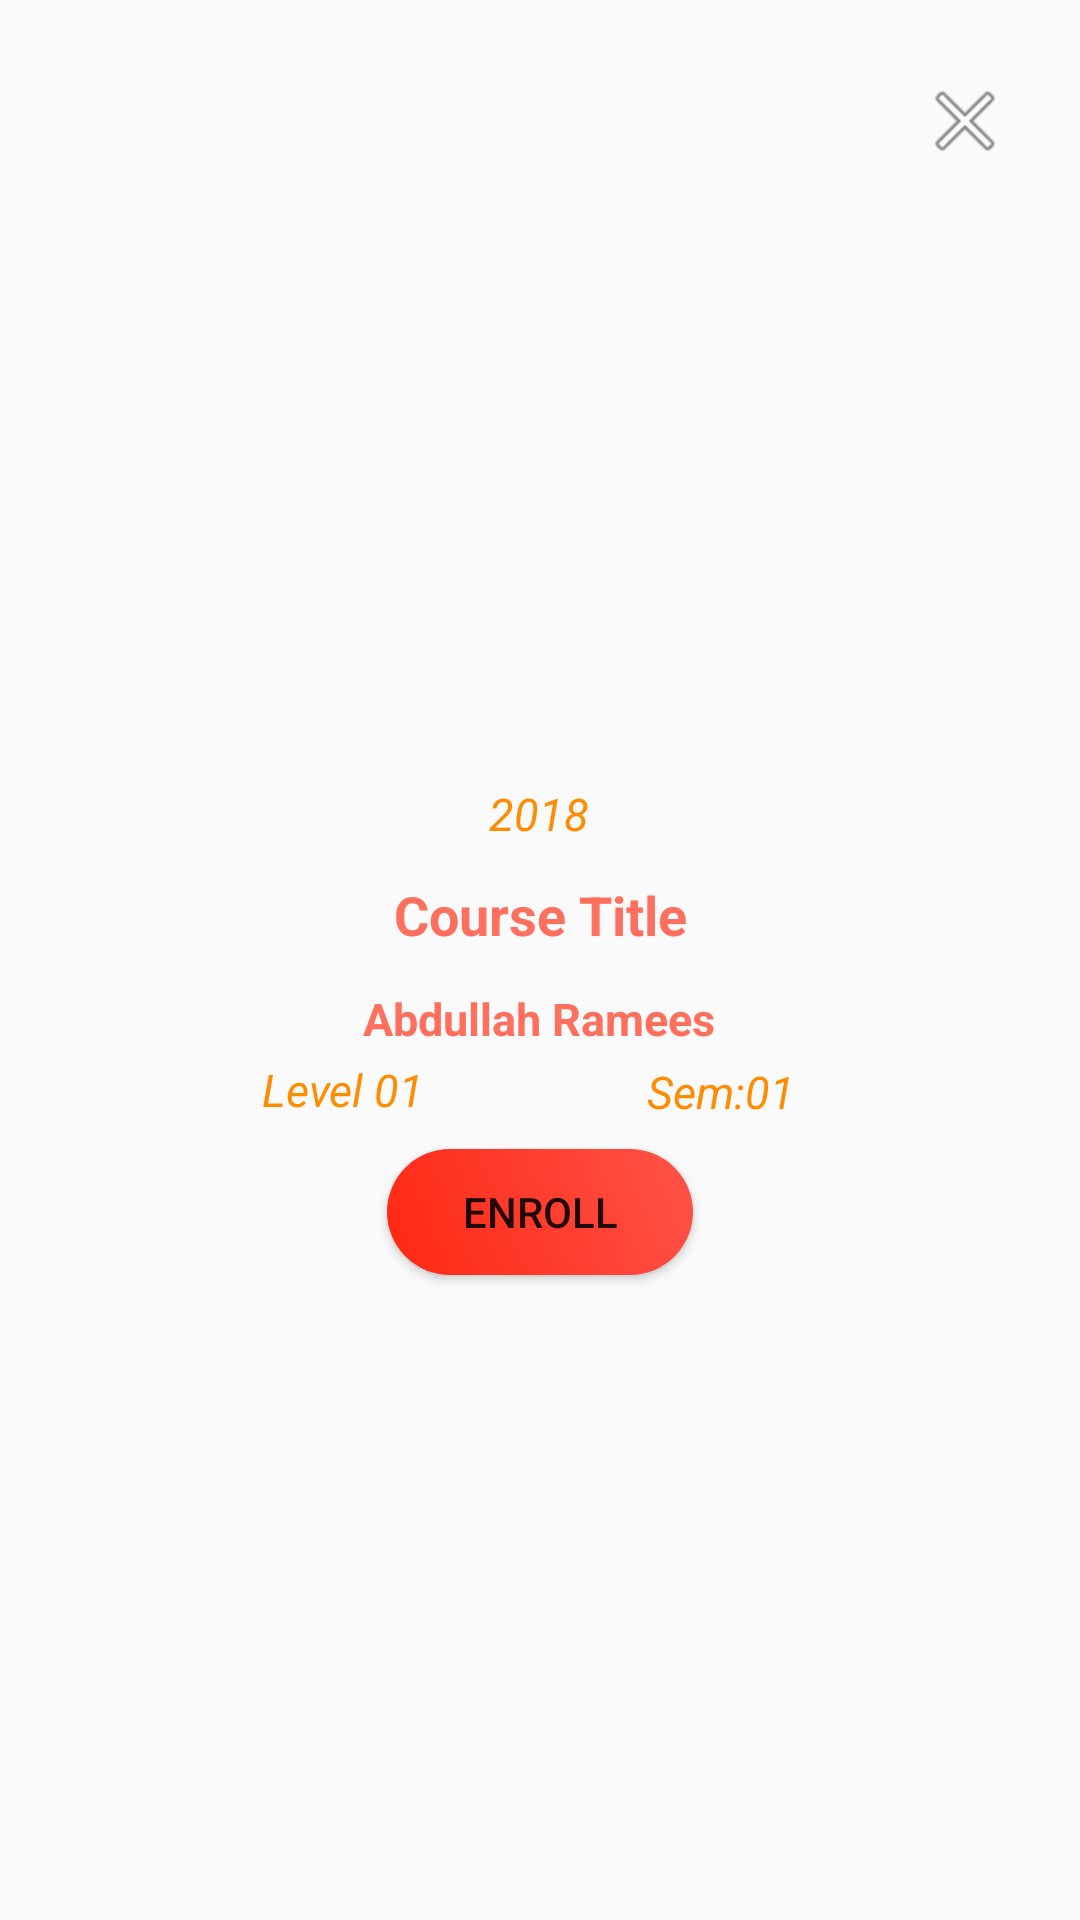

Where icons sit on this 1080 × 1920 app screen, as (x1, y1, x2, y2):
close clear cancel: (935, 91, 995, 151)
